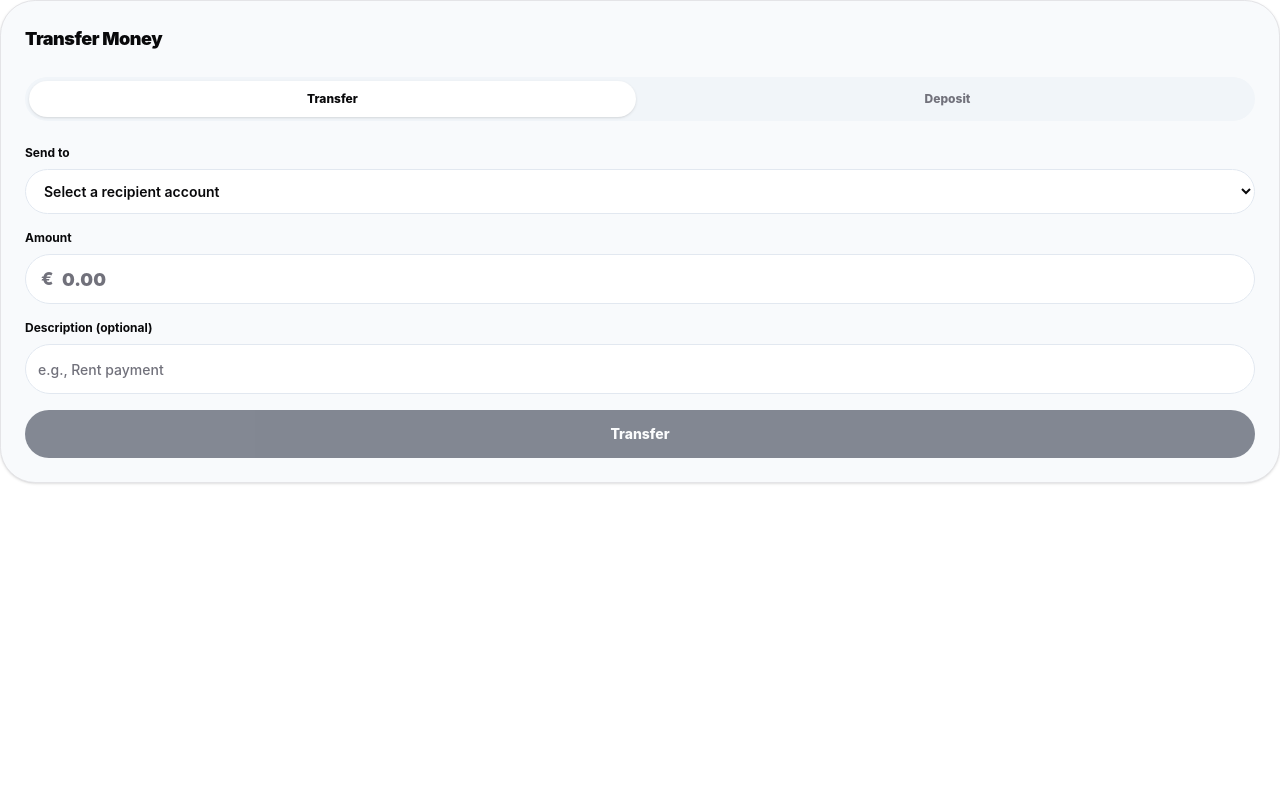
Test: Category 7: Money Transfer Form Component › Test 3: should invoke createTransaction with correct parameters on successful transfer submit
Select recipient account
Select "Savings Account - NL12BUNQ9999 (€1000.00)" in the dropdown labelled "Send to" at (640, 192), box [25,169,1255,214]
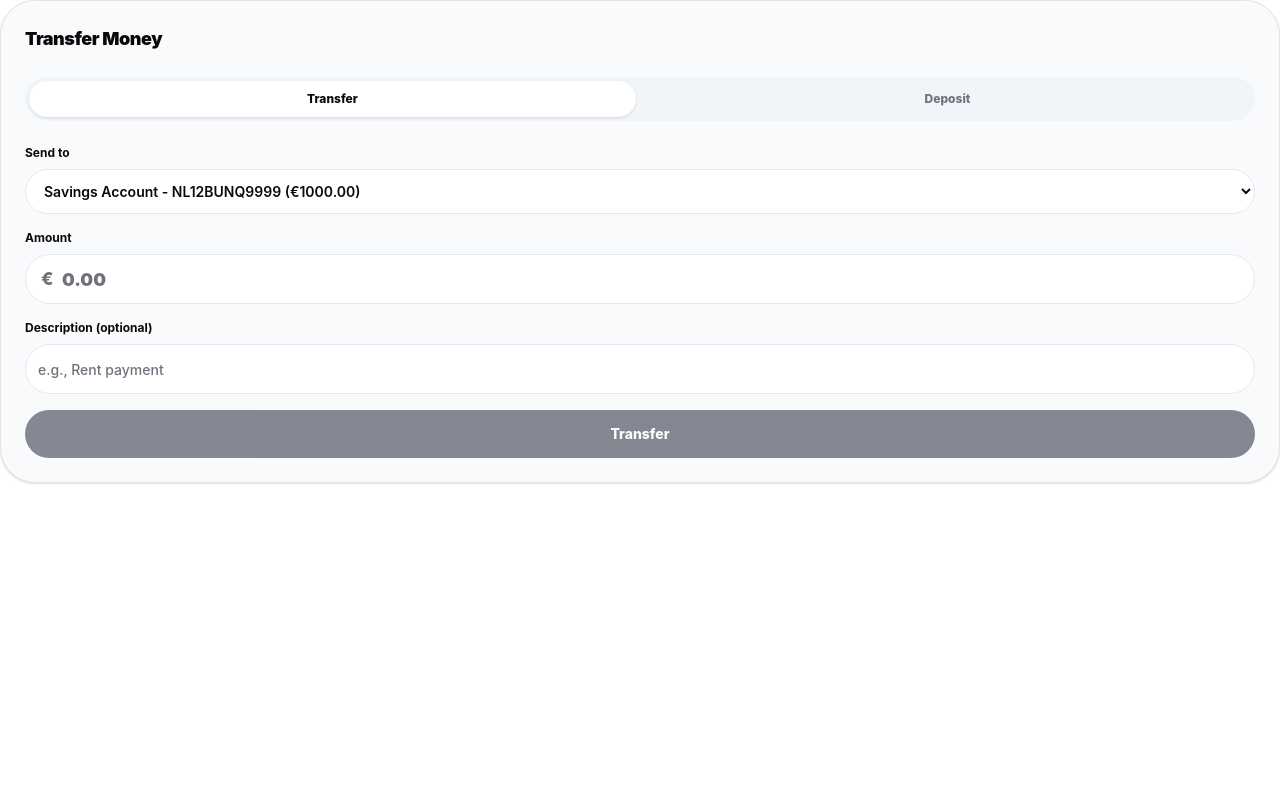
Input amount & description
Type "75.50" into the number field labelled "Amount" at (640, 279), box [25,254,1255,304]
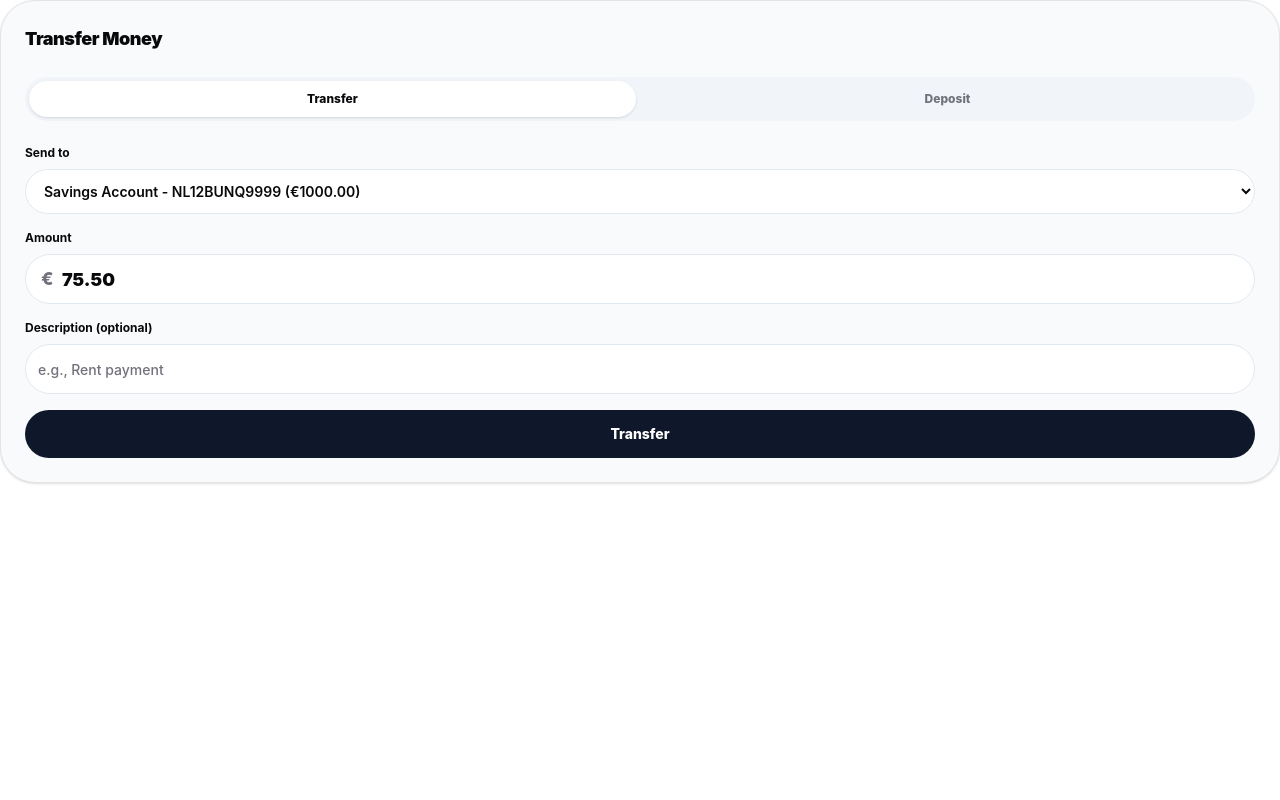
Type "Dinner share" into the field labelled "Description (optional)" at (640, 369), box [25,344,1255,394]
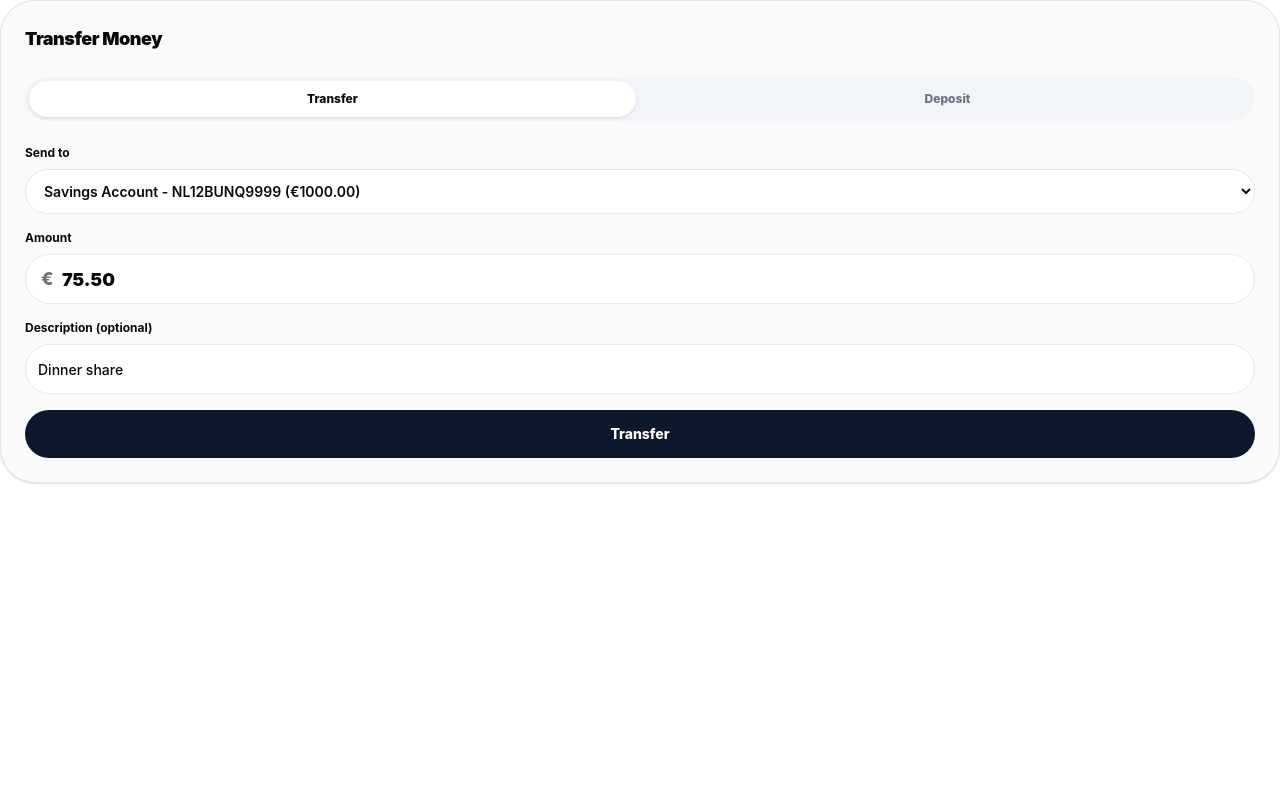
Click the submit button at (640, 434), box [25,410,1255,458]
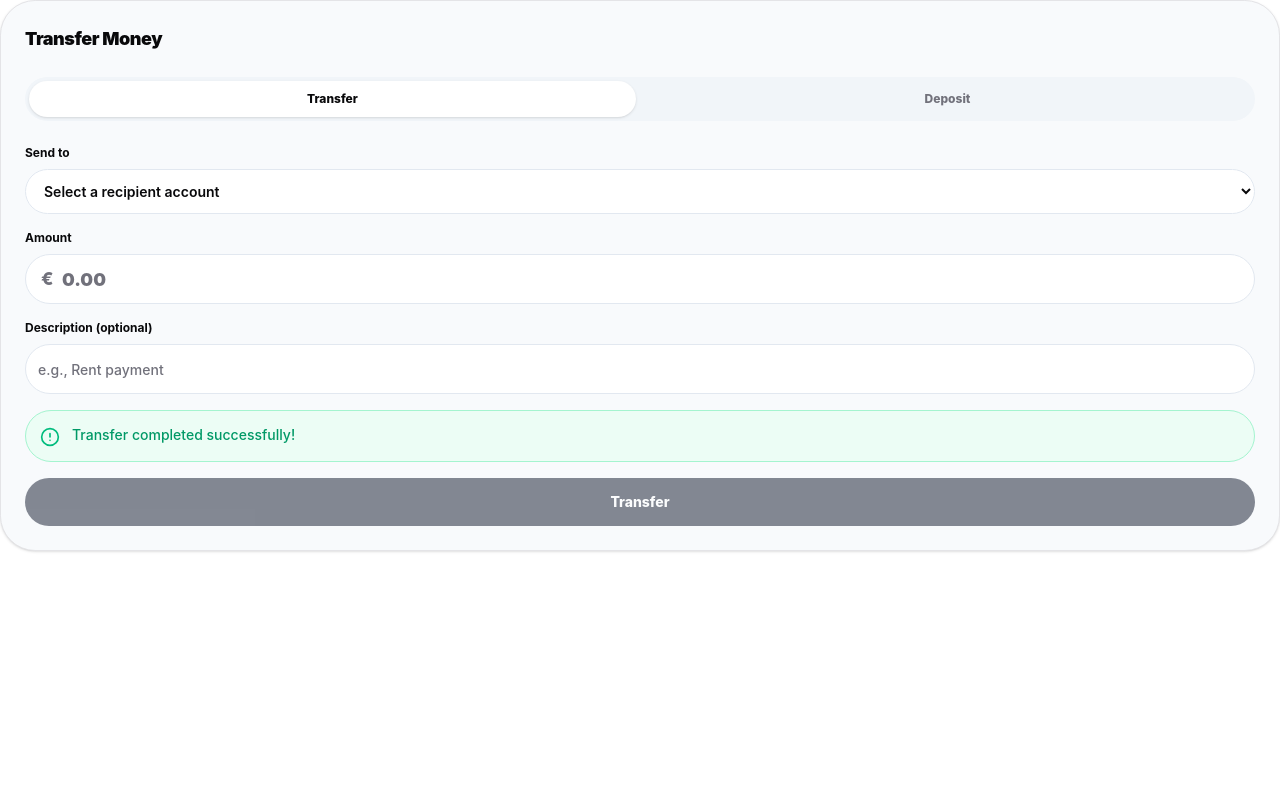
Result: the text "Transfer completed successfully!" is shown at [72,425,295,447]
